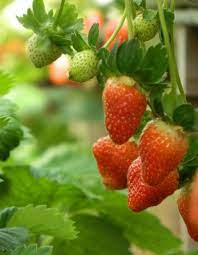ripe: (137, 108, 185, 185), (102, 74, 147, 144), (125, 152, 177, 212), (92, 131, 143, 192)
unripe: (25, 28, 64, 68), (178, 157, 196, 229), (66, 45, 99, 82), (132, 12, 166, 44)
